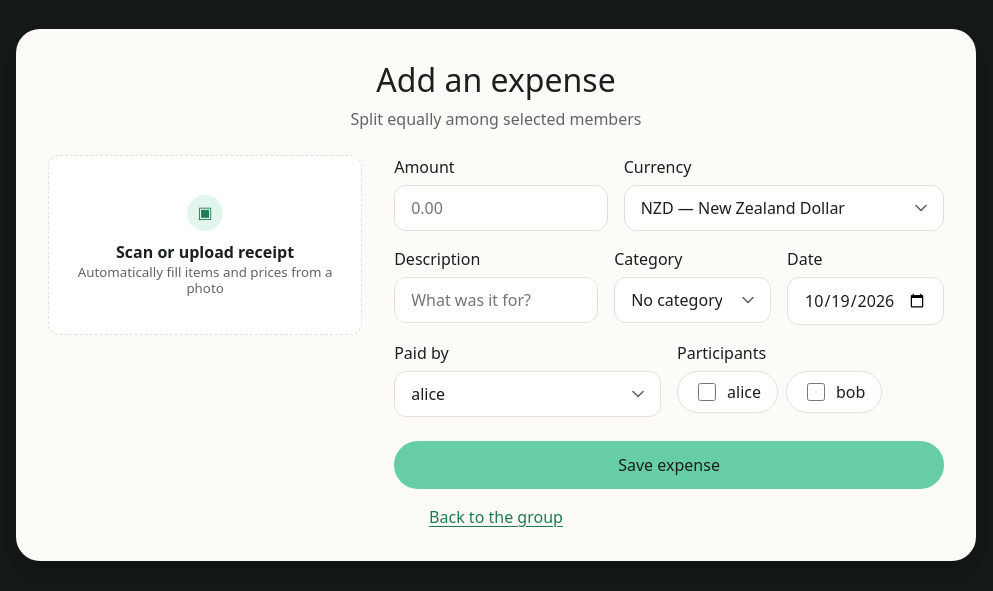
Test: #14: shows the server error under the currency selector
Type "20" into the number field labelled "Amount" at point(501, 208), box [394,185,608,231]
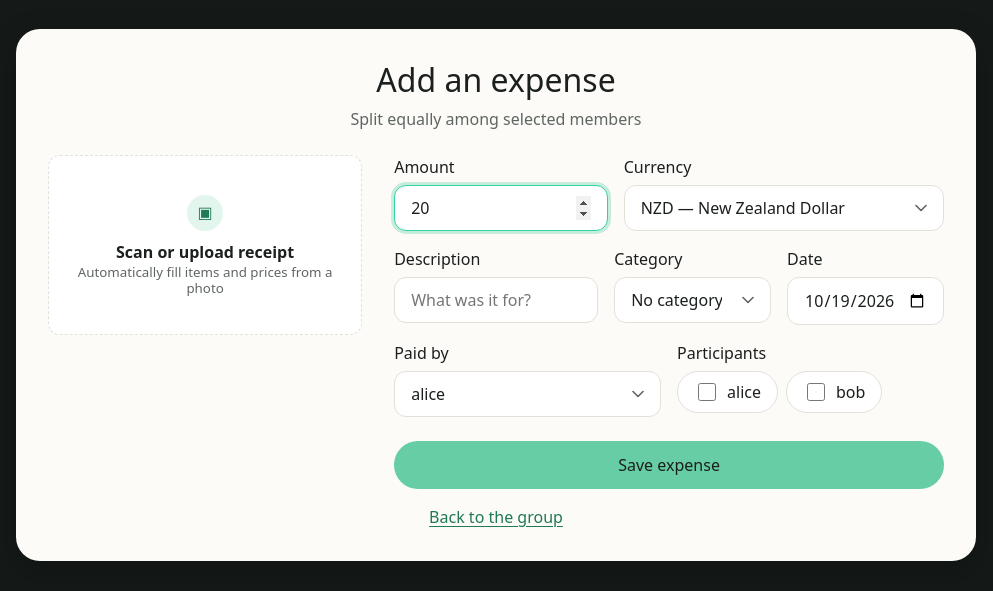
Select "USD — US Dollar" in the dropdown labelled "Currency" at point(784, 208), box [624,185,944,231]
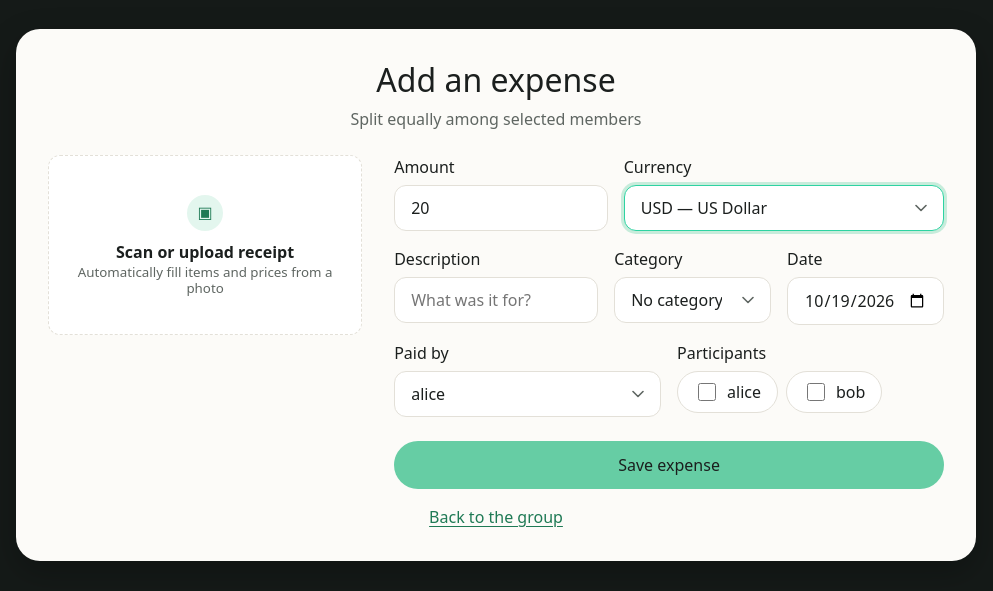
Type "Dinner" into the field labelled "Description" at point(496, 300), box [394,277,598,323]
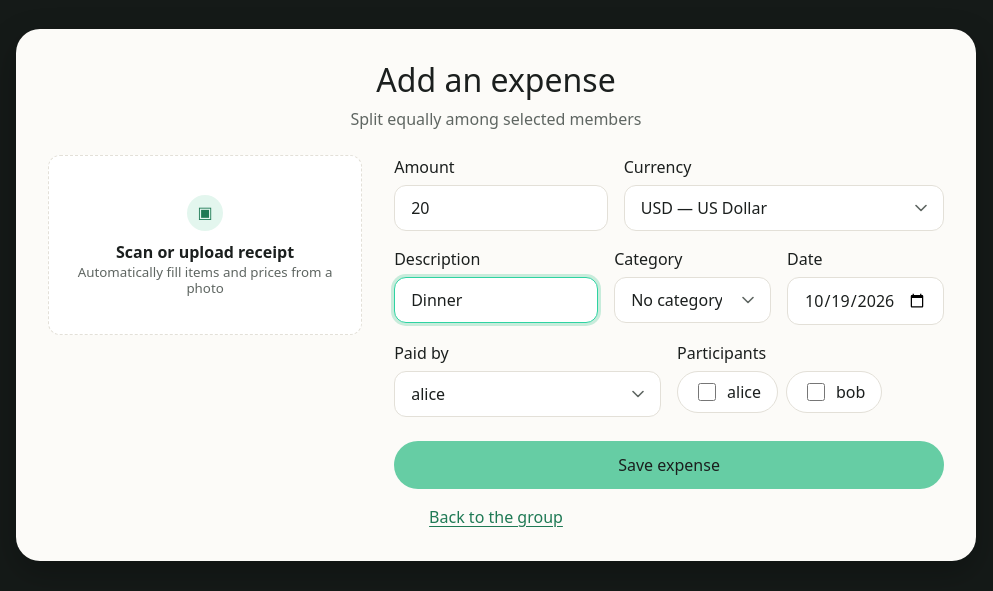
Click the checkbox labelled "alice" at point(707, 392), box [698,383,716,401]
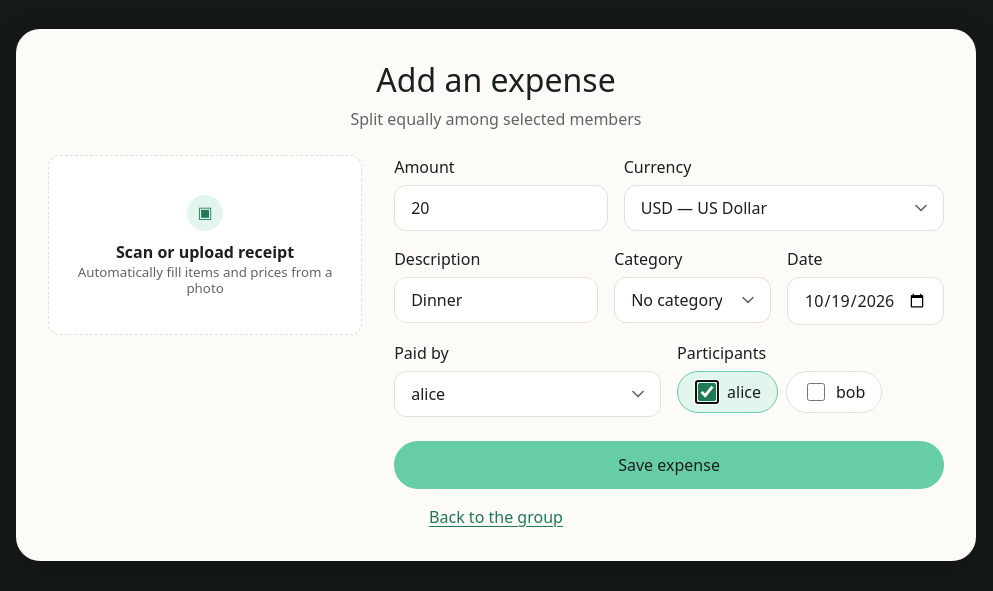
Click the button "Save expense" at point(669, 465), box [394,441,944,489]
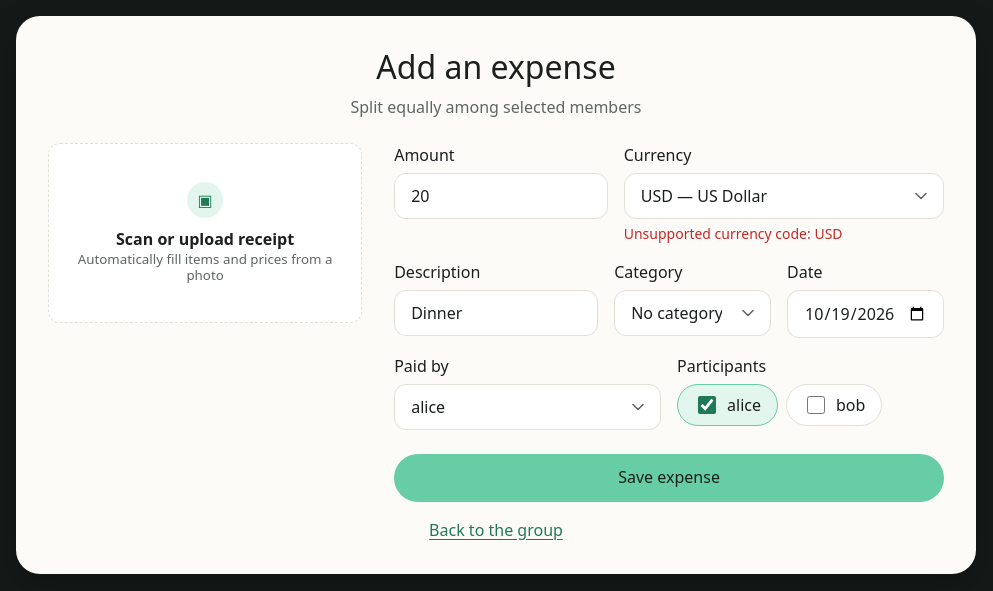
Expected: the text "Unsupported currency code: USD" is shown, [624,224,843,243]
